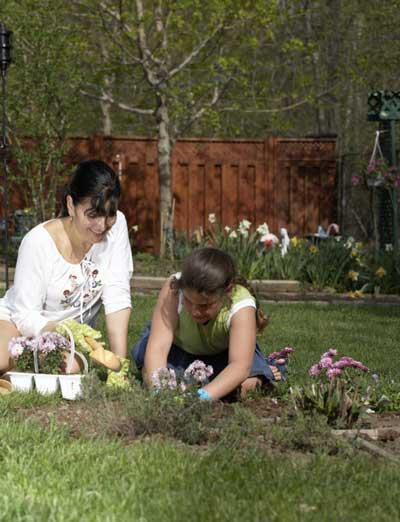person: (133, 245, 285, 407)
